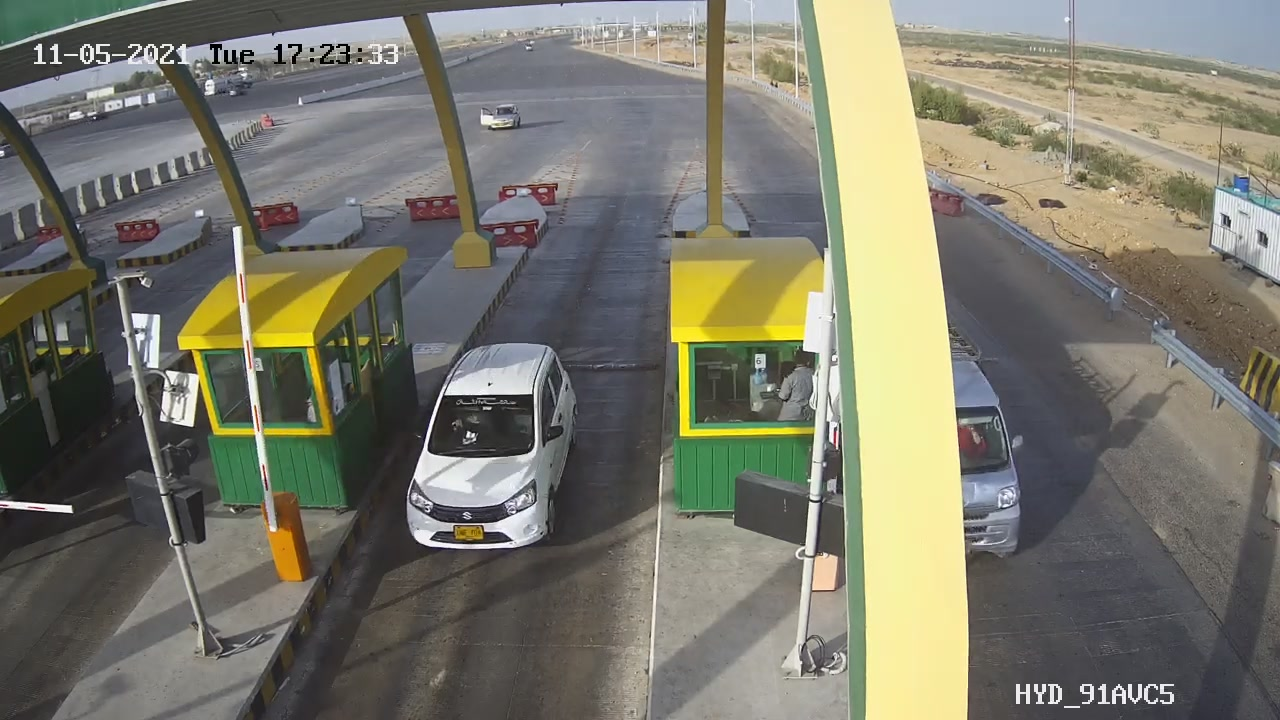F1: (379, 330, 601, 572)
